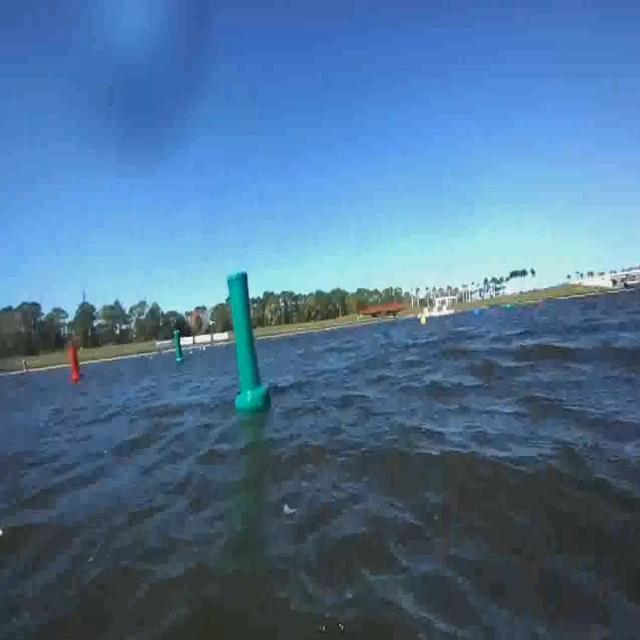blue-buoy: (474, 308, 481, 319)
green-column-buoy: (226, 267, 267, 412), (176, 331, 188, 362)
red-column-buoy: (69, 345, 82, 383)
yellow-buoy: (420, 314, 427, 327)
